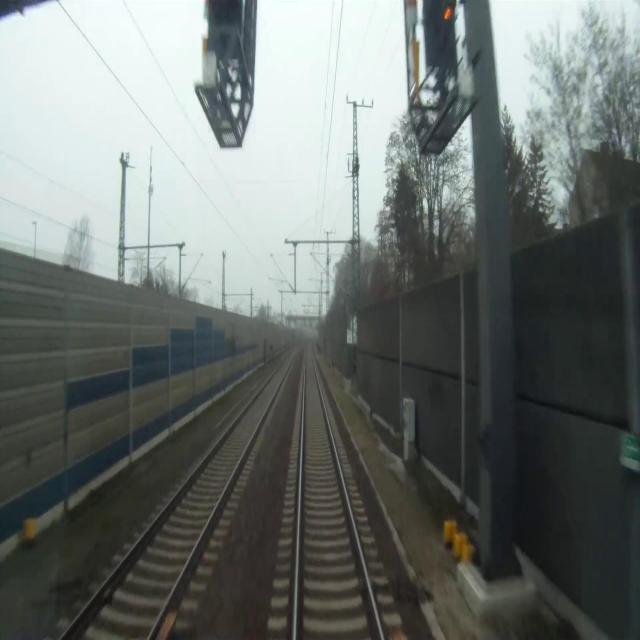rail-track: (65, 350, 295, 639), (297, 352, 380, 639)
